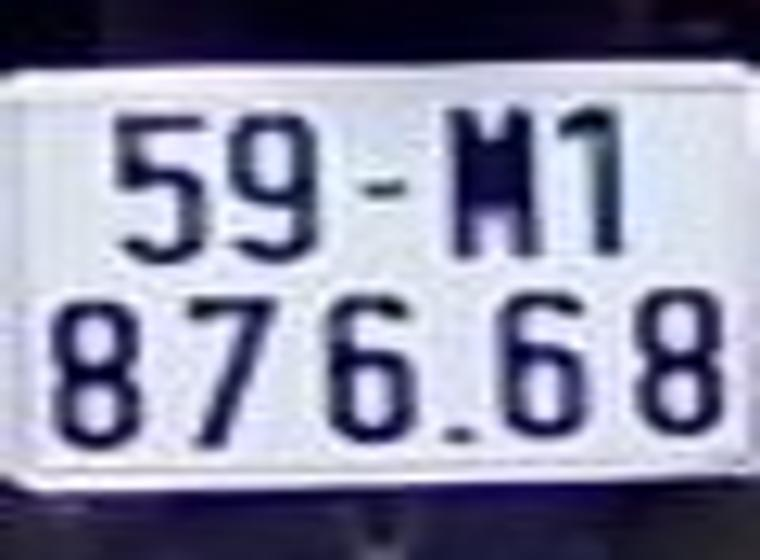-: (356, 176, 409, 206)
.: (441, 424, 481, 458)
1: (559, 105, 630, 259)
5: (111, 114, 211, 270)
6: (493, 289, 596, 441), (323, 291, 423, 445)
7: (176, 296, 277, 448)
8: (627, 279, 730, 439), (46, 296, 148, 447)
9: (222, 109, 321, 272)
M: (437, 104, 542, 257)
